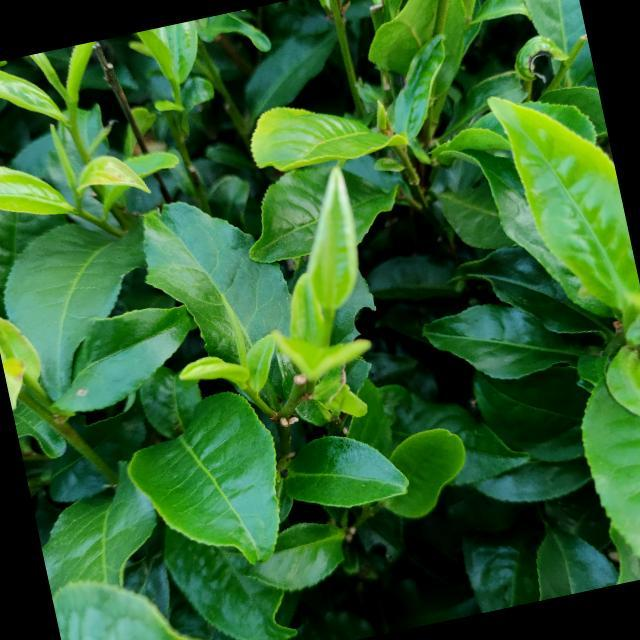Stem: (70, 128, 84, 150), (251, 393, 263, 407), (173, 89, 182, 104)
